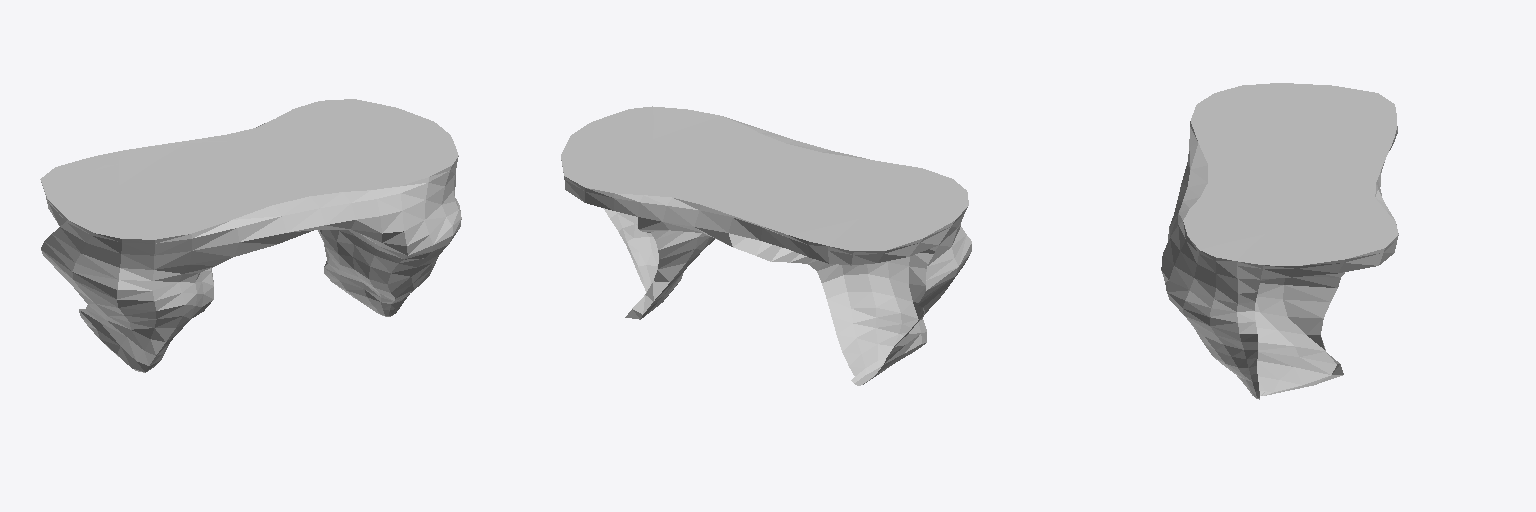
File: sol.obj
3 views of the same model, side by side, from view 1: azimuth 30°, elevation 25°; view 2: azimuth 150°, elevation 25°; view 3: azimuth 270°, elevation 25° (orthographic).
Bounding box in the file's own units: 13.06 × 5.45 × 7.16.